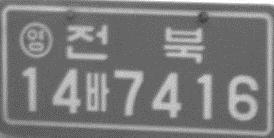1: (16, 65, 47, 112), (191, 73, 221, 121)
4: (151, 71, 182, 118), (50, 67, 81, 113)
6: (227, 73, 259, 122)
7: (113, 68, 143, 116)
바: (84, 71, 110, 112)
영: (18, 21, 53, 58)
전북_D: (64, 22, 205, 64)
